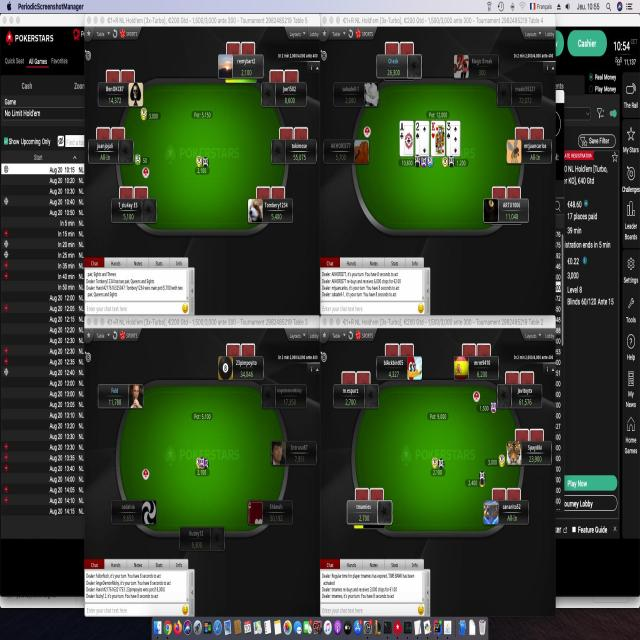2S: (414, 120, 420, 140)
3S: (446, 119, 452, 139)
AC: (399, 119, 405, 144)
KH: (430, 119, 435, 138)
